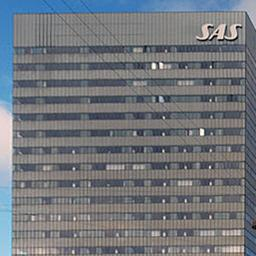building: (10, 7, 246, 256)
